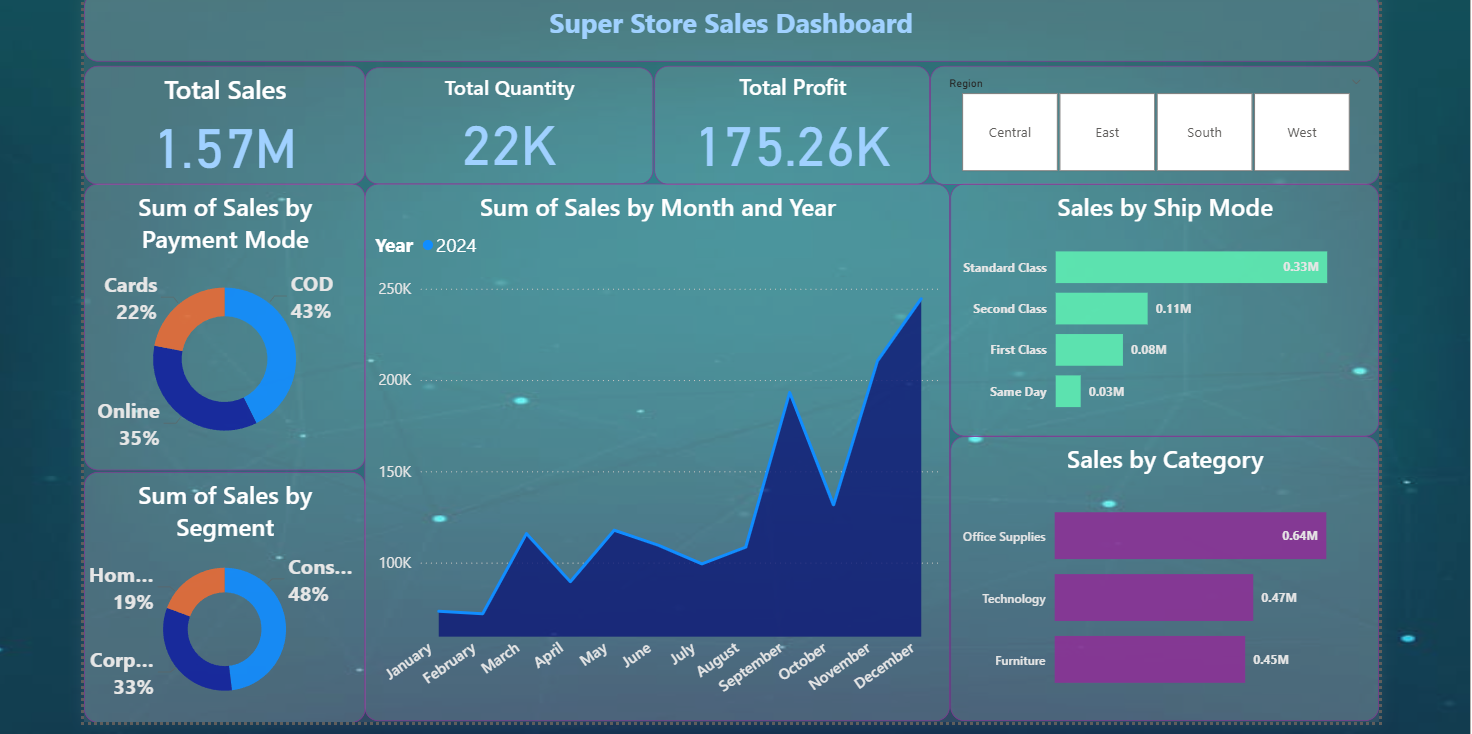

The dashboard page shown, as its layout file describes it:
{"tool":"powerbi","page":{"name":"Page 1","canvas":[1280,720],"ordinal":0},"visuals":[{"type":"clusteredBarChart","title":"Sales by Ship Mode","fields":{"Category":["Sheet1.Ship Mode"],"Y":["Sum(Sheet1.Sales)"]},"box":[856.1,189,423.3,249.5],"z":1000},{"type":"slicer","fields":{"Values":["Sheet1.Region"]},"box":[835.3,71.8,444.1,117.2],"z":2000},{"type":"textbox","box":[0,0,1279.4,68],"z":3000},{"type":"card","title":" Total Sales","fields":{"Values":["Sum(Sheet1.Sales)"]},"box":[0,71.8,277.8,117.2],"z":4000},{"type":"card","title":"Total  Quantity","fields":{"Values":["Sum(Sheet1.Quantity)"]},"box":[277.8,73.7,285.4,115.3],"z":5000},{"type":"card","title":"Total Profit","fields":{"Values":["Sum(Sheet1.Profit)"]},"box":[563.2,71.8,272.1,117.2],"z":6000},{"type":"donutChart","fields":{"Category":["Sheet1.Payment Mode"],"Y":["Sum(Sheet1.Sales)"]},"box":[0,189,277.8,283.5],"z":7000},{"type":"donutChart","fields":{"Category":["Sheet1.Segment"],"Y":["Sum(Sheet1.Sales)"]},"box":[0,472.4,277.8,247.6],"z":8000},{"type":"areaChart","fields":{"Y":["Sum(Sheet1.Sales)"],"Category":["Sheet1.Order Date.Variation.Date Hierarchy.Month","Sheet1.Order Date.Variation.Date Hierarchy.Day"],"Series":["Sheet1.Order Date.Variation.Date Hierarchy.Year"]},"box":[277.8,189,578.3,531],"z":9000},{"type":"clusteredBarChart","title":"Sales by Category","fields":{"Category":["Sheet1.Category"],"Y":["Sum(Sheet1.Sales)"]},"box":[856.1,438.4,423.3,281.6],"z":10000}]}

Visuals, with their boxes on the page's 1280x720 design canvas (x1, y1, x2, y2). These are canvas units, not pixel positions in the 1472x734 screenshot, which may show the page scaled, cropped or inside an application window:
"Sales by Ship Mode" clusteredBarChart: bbox=[856, 189, 1279, 438]
slicer - Sheet1.Region: bbox=[835, 72, 1279, 189]
textbox: bbox=[0, 0, 1279, 68]
" Total Sales" card: bbox=[0, 72, 278, 189]
"Total  Quantity" card: bbox=[278, 74, 563, 189]
"Total Profit" card: bbox=[563, 72, 835, 189]
donutChart - Sheet1.Payment Mode x Sum(Sheet1.Sales): bbox=[0, 189, 278, 472]
donutChart - Sheet1.Segment x Sum(Sheet1.Sales): bbox=[0, 472, 278, 720]
areaChart - Sum(Sheet1.Sales) x Sheet1.Order Date.Variation.Date Hierarchy.Month: bbox=[278, 189, 856, 720]
"Sales by Category" clusteredBarChart: bbox=[856, 438, 1279, 720]
